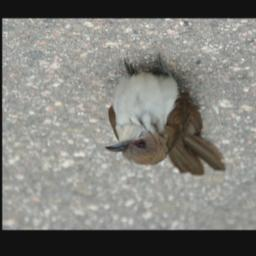Cuckoo: (103, 52, 226, 177)
